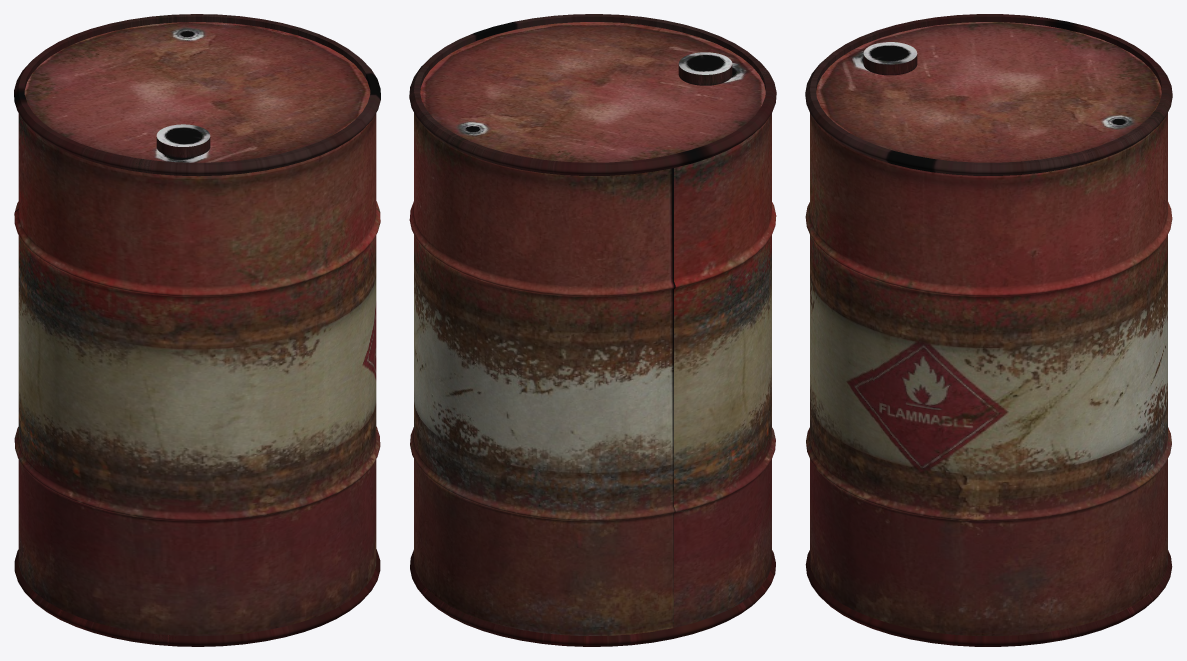
The picture shows the model from 3 angles, left to right: view 1: azimuth 30°, elevation 25°; view 2: azimuth 150°, elevation 25°; view 3: azimuth 270°, elevation 25°; orthographic projection.
Parts seen in each view (by area): view 1: Barrel_Untitled.001; view 2: Barrel_Untitled.001; view 3: Barrel_Untitled.001.
Boxes of the visible parts, x1=… form: Barrel_Untitled.001: x1=14, y1=14, x2=380, y2=646; Barrel_Untitled.001: x1=409, y1=14, x2=776, y2=646; Barrel_Untitled.001: x1=805, y1=14, x2=1172, y2=646.
Size of the model in its own units: 2.29 by 3.35 by 2.29.
1 material, 1 textured.
